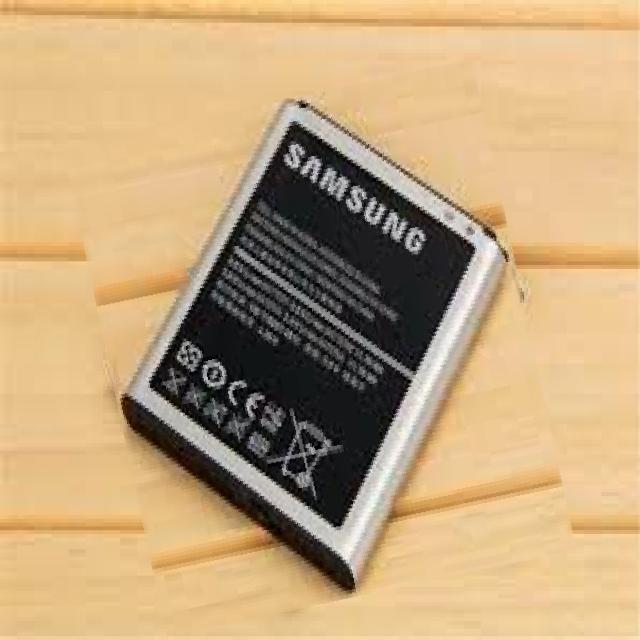Battery: (109, 85, 513, 597)
